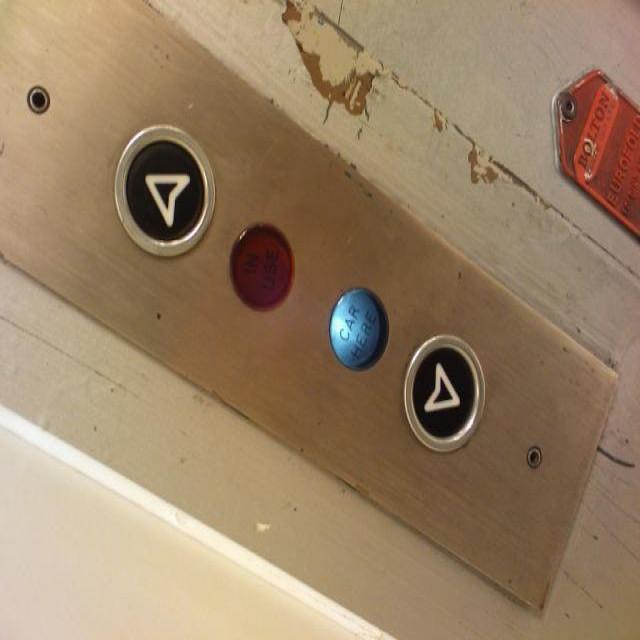down: (401, 328, 487, 453)
text: (228, 219, 295, 312), (325, 283, 389, 373)
up: (111, 120, 216, 261)
